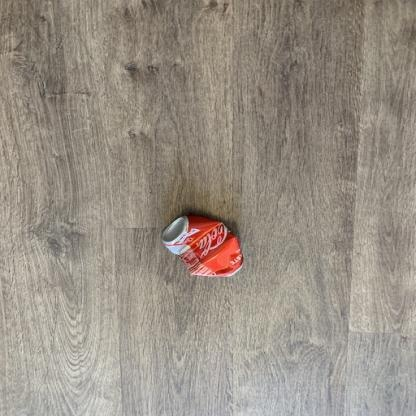trash: (161, 215, 242, 276)
